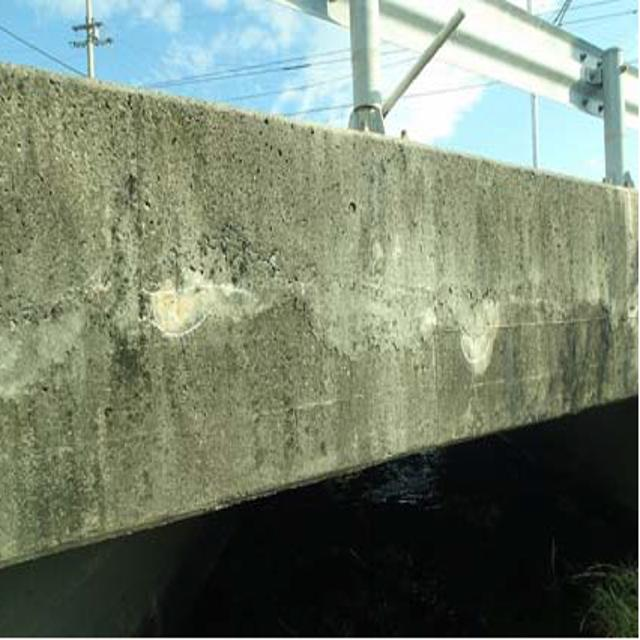freelime: (139, 262, 247, 338), (454, 283, 513, 373)
